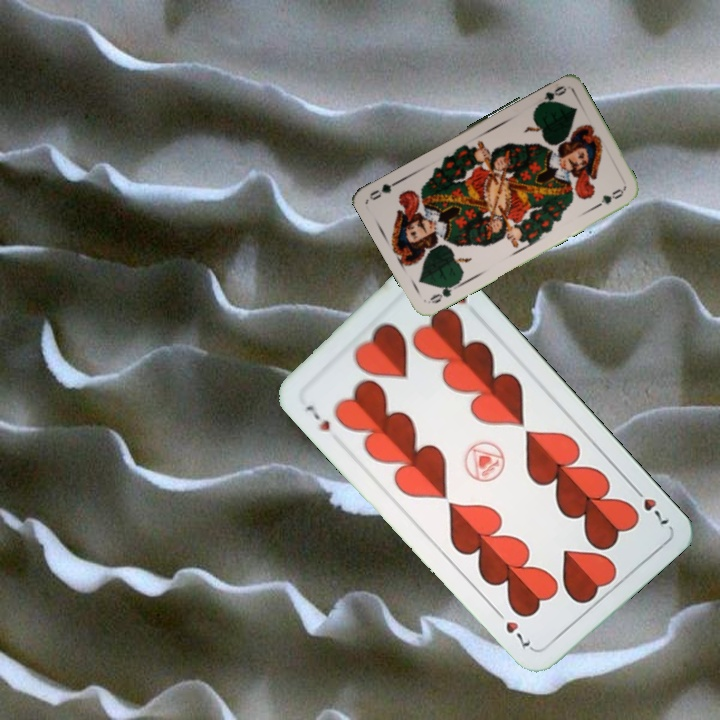GO: (532, 81, 569, 111), (425, 279, 463, 306)
H7: (627, 481, 672, 530), (301, 400, 333, 434)
